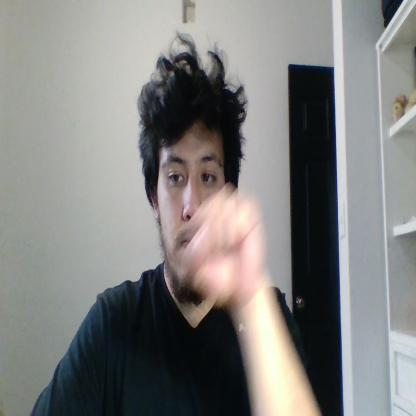S: (183, 182, 267, 306)
